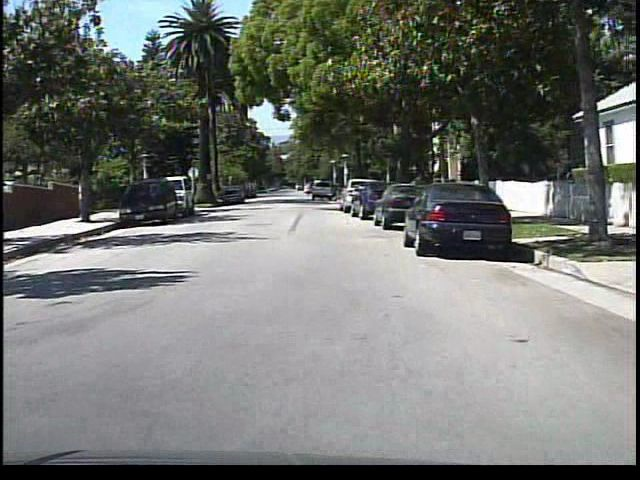person: (72, 178, 89, 217)
